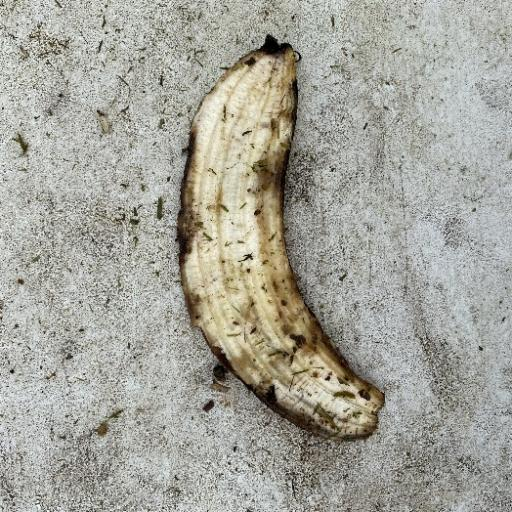Waste: (175, 33, 386, 442)
